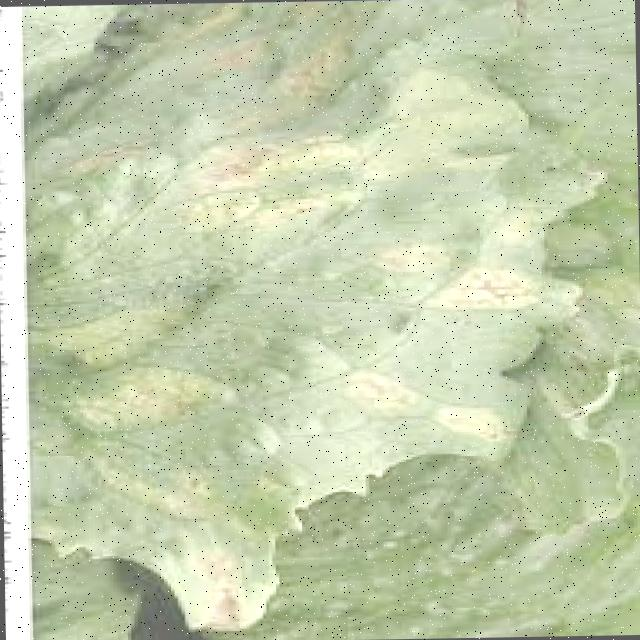Downy_mildew_on_lettuce: (54, 33, 611, 634)
